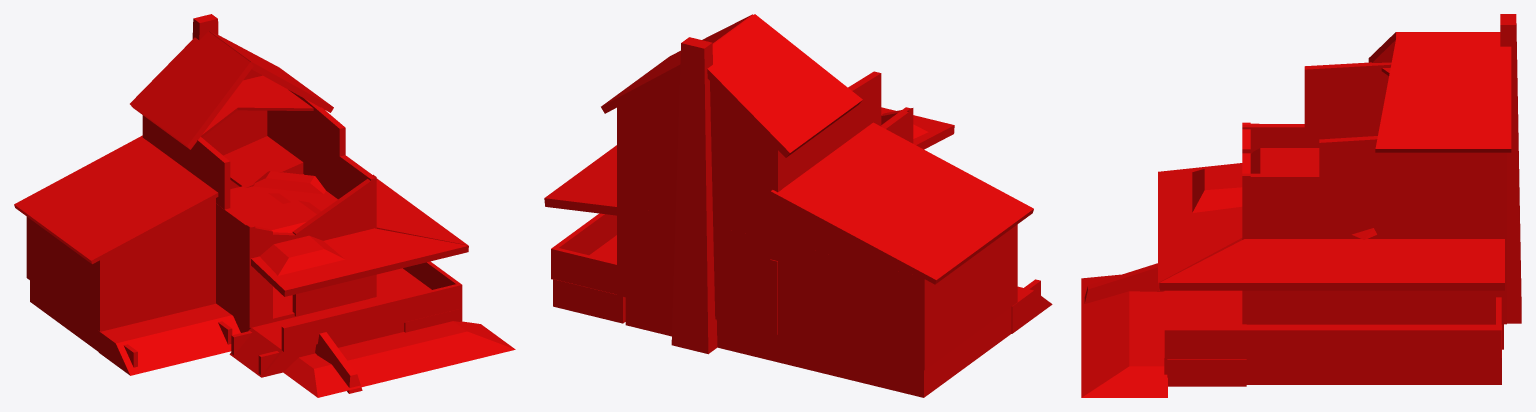
File: SM_Bld_House_Burnt_01_Collision.fbx
The picture shows the model from 3 angles, left to right: view 1: azimuth 30°, elevation 25°; view 2: azimuth 150°, elevation 25°; view 3: azimuth 270°, elevation 25°; orthographic projection. The views are drawn at different scales.
Parts seen in each view (by area): view 1: SM_Bld_House_Burnt_01_Collision; view 2: SM_Bld_House_Burnt_01_Collision; view 3: SM_Bld_House_Burnt_01_Collision.
Boxes of the visible parts, x1,y1,x2,y2 form: SM_Bld_House_Burnt_01_Collision: (14, 14, 515, 397); SM_Bld_House_Burnt_01_Collision: (544, 14, 1052, 397); SM_Bld_House_Burnt_01_Collision: (1081, 14, 1521, 397).
Size of the model in its own units: 1415 by 1000 by 1328.
